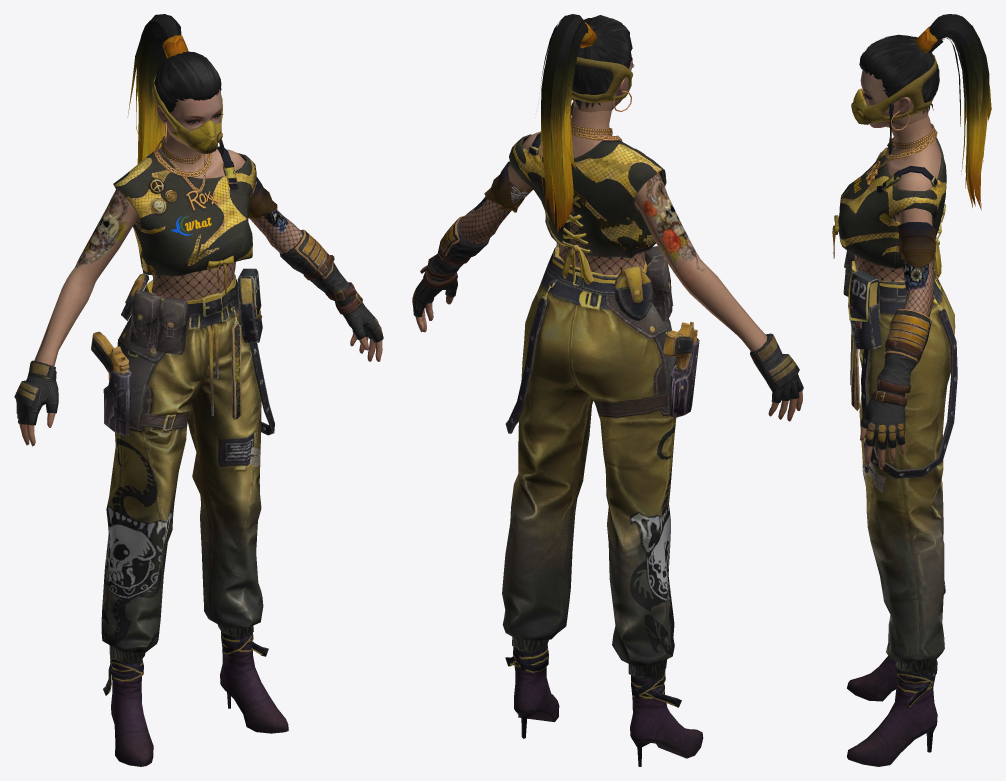
Rendered from Gangsterrap Female.obj.
The picture shows the model from 3 angles, left to right: view 1: azimuth 30°, elevation 25°; view 2: azimuth 150°, elevation 25°; view 3: azimuth 270°, elevation 25°; orthographic projection. The views are drawn at different scales.
Parts seen in each view (by area): view 1: Female_Lobby_Bottom_Cos_Gangsterrap, Female_Lobby_Top_Cos_Gangsterrap, Female_Lobby_Top_Cos_Gangsterrap.001, Female_Lobby_Shoe_Cos_Gangsterrap, Female_Lobby_Hair_Cos_Gangsterrap, Female_Lobby_Head_Cos_Gangsterrap, Female_Lobby_Accessory_Cos_Gangsterrap; view 2: Female_Lobby_Bottom_Cos_Gangsterrap, Female_Lobby_Top_Cos_Gangsterrap, Female_Lobby_Top_Cos_Gangsterrap.001, Female_Lobby_Hair_Cos_Gangsterrap, Female_Lobby_Shoe_Cos_Gangsterrap, Female_Lobby_Accessory_Cos_Gangsterrap; view 3: Female_Lobby_Bottom_Cos_Gangsterrap, Female_Lobby_Top_Cos_Gangsterrap, Female_Lobby_Hair_Cos_Gangsterrap, Female_Lobby_Shoe_Cos_Gangsterrap, Female_Lobby_Top_Cos_Gangsterrap.001, Female_Lobby_Accessory_Cos_Gangsterrap, Female_Lobby_Head_Cos_Gangsterrap.
Boxes of the visible parts, <box> form: Female_Lobby_Bottom_Cos_Gangsterrap: <box>91,268,274,663</box>; Female_Lobby_Top_Cos_Gangsterrap: <box>14,136,383,425</box>; Female_Lobby_Top_Cos_Gangsterrap.001: <box>19,127,382,446</box>; Female_Lobby_Shoe_Cos_Gangsterrap: <box>103,631,288,766</box>; Female_Lobby_Hair_Cos_Gangsterrap: <box>127,14,223,163</box>; Female_Lobby_Head_Cos_Gangsterrap: <box>156,89,222,153</box>; Female_Lobby_Accessory_Cos_Gangsterrap: <box>152,74,222,153</box>; Female_Lobby_Bottom_Cos_Gangsterrap: <box>502,242,699,678</box>; Female_Lobby_Top_Cos_Gangsterrap: <box>412,123,803,402</box>; Female_Lobby_Top_Cos_Gangsterrap.001: <box>415,105,802,421</box>; Female_Lobby_Hair_Cos_Gangsterrap: <box>539,14,632,233</box>; Female_Lobby_Shoe_Cos_Gangsterrap: <box>505,644,703,766</box>; Female_Lobby_Accessory_Cos_Gangsterrap: <box>571,57,632,111</box>; Female_Lobby_Bottom_Cos_Gangsterrap: <box>843,251,957,674</box>; Female_Lobby_Top_Cos_Gangsterrap: <box>832,123,946,449</box>; Female_Lobby_Hair_Cos_Gangsterrap: <box>859,14,991,210</box>; Female_Lobby_Shoe_Cos_Gangsterrap: <box>847,656,937,766</box>; Female_Lobby_Top_Cos_Gangsterrap.001: <box>854,115,941,469</box>; Female_Lobby_Accessory_Cos_Gangsterrap: <box>851,54,937,130</box>; Female_Lobby_Head_Cos_Gangsterrap: <box>860,70,928,127</box>.
Size of the model in its own units: 0.548 by 1.02 by 0.2066.
Materials: 7 (7 with a texture image).
